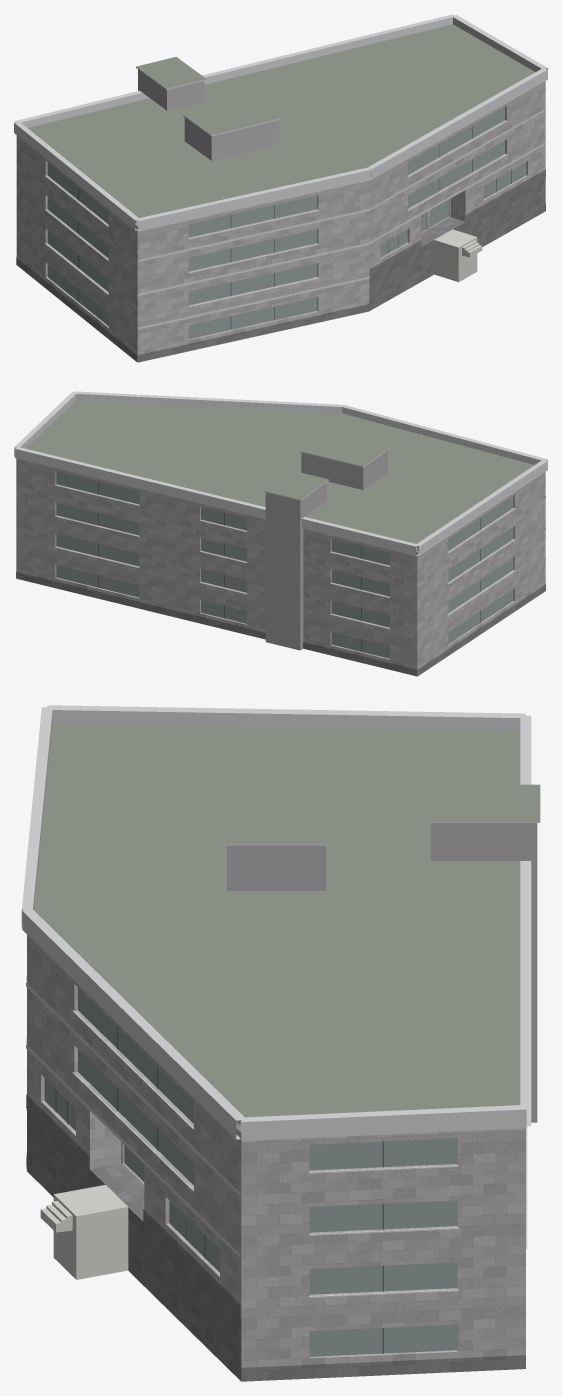
The picture shows the model from 3 angles, top to bottom: view 1: azimuth 30°, elevation 25°; view 2: azimuth 150°, elevation 25°; view 3: azimuth 270°, elevation 25°; orthographic projection. The views are drawn at different scales.
Visible parts, largest first — view 1: b43_1__roof, b43_1__wall, b43_1__trim, b43_1__glass, b43_1__base, b43_1__wall2, b43_1__entranceStair; view 2: b43_1__wall, b43_1__roof, b43_1__glass, b43_1__trim, b43_1__wall2, b43_1__base; view 3: b43_1__roof, b43_1__wall, b43_1__trim, b43_1__glass, b43_1__base, b43_1__wall2, b43_1__entranceStair.
Part boxes in pixels (box(x1,y1,x2,y2)): b43_1__roof: box(28, 24, 543, 310); b43_1__wall: box(16, 81, 545, 362); b43_1__trim: box(14, 14, 547, 329); b43_1__glass: box(47, 107, 526, 338); b43_1__base: box(16, 169, 545, 362); b43_1__wall2: box(138, 69, 278, 160); b43_1__entranceStair: box(434, 229, 482, 282); b43_1__wall: box(16, 458, 545, 675); b43_1__roof: box(26, 400, 534, 551); b43_1__glass: box(56, 471, 513, 658); b43_1__trim: box(14, 391, 547, 629); b43_1__wall2: box(265, 450, 387, 650); b43_1__base: box(16, 572, 545, 676); b43_1__roof: box(27, 723, 540, 1380); b43_1__wall: box(27, 935, 525, 1367); b43_1__trim: box(21, 705, 540, 1297); b43_1__glass: box(44, 988, 457, 1356); b43_1__base: box(26, 1094, 525, 1381); b43_1__wall2: box(227, 823, 537, 1122); b43_1__entranceStair: box(40, 1185, 128, 1279).
Bounding box in the file's own units: 51.81 × 17.57 × 27.22.
9 materials, 2 textured.
